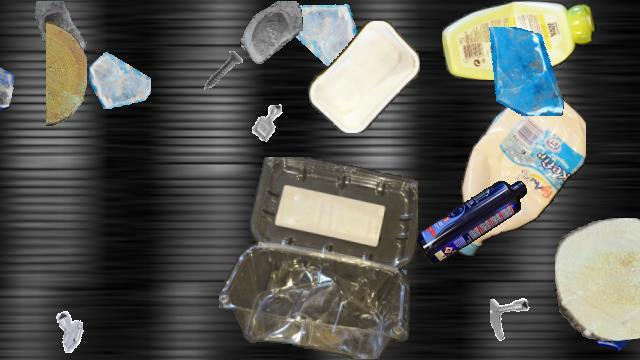glass: (480, 27, 568, 115), (331, 240, 407, 316), (287, 1, 359, 73), (31, 1, 95, 65), (89, 47, 151, 109), (240, 1, 302, 63), (585, 288, 640, 350), (0, 29, 14, 117), (625, 282, 640, 358)
metal: (490, 296, 550, 356), (197, 45, 251, 99), (242, 97, 294, 149), (50, 308, 94, 352)
plastic: (219, 157, 417, 359), (456, 86, 586, 260), (307, 21, 421, 133), (442, 1, 596, 79), (416, 181, 526, 263)
wood: (555, 218, 640, 340), (46, 22, 86, 126)
